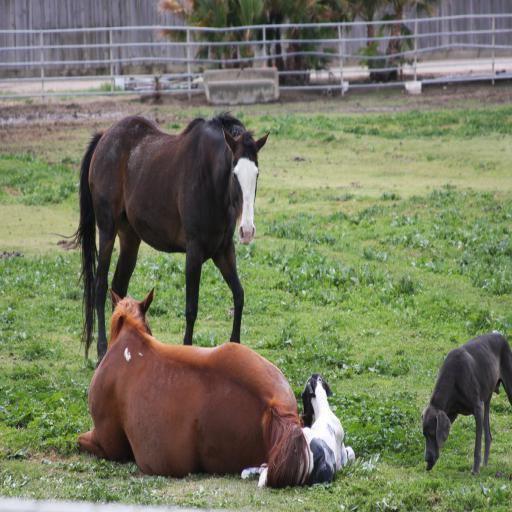horse: (48, 105, 272, 364), (74, 286, 314, 490), (240, 368, 356, 488)
